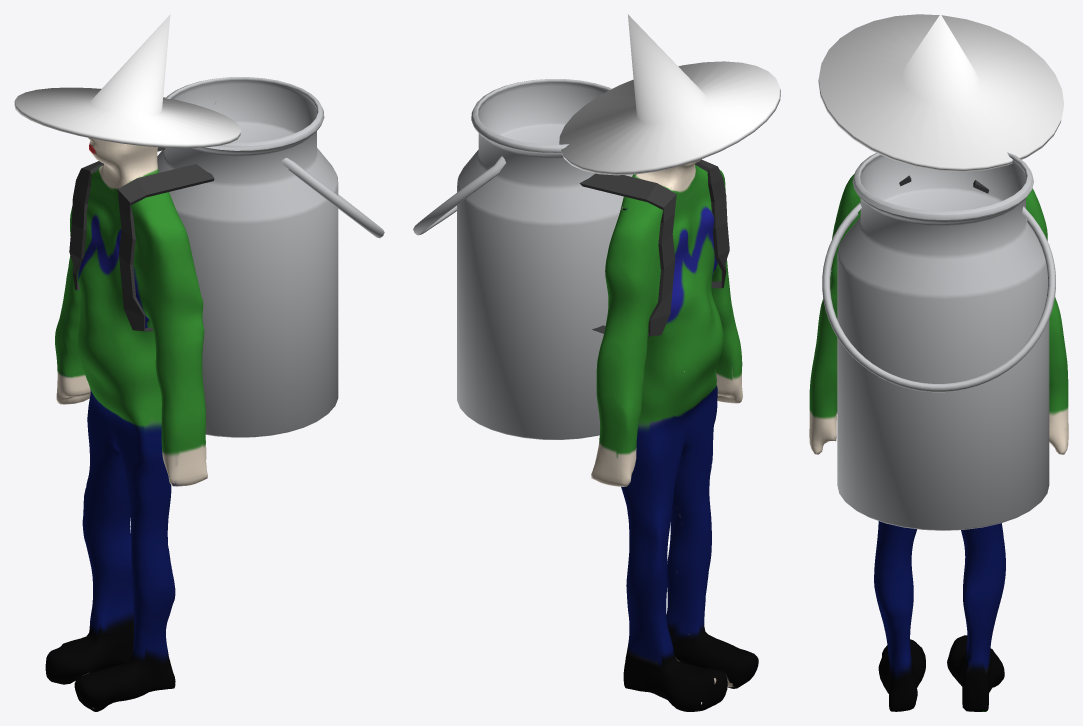
File: mlecznydruid.glb
3 views of the same model, side by side, from view 1: azimuth 30°, elevation 25°; view 2: azimuth 150°, elevation 25°; view 3: azimuth 270°, elevation 25° (orthographic). The views are drawn at different scales.
Visible parts, largest first — view 1: Plane; view 2: Plane; view 3: Plane.
Part boxes in pixels (<box>): Plane: <box>14,14,384,711</box>; Plane: <box>413,14,780,711</box>; Plane: <box>809,14,1068,711</box>.
Bounding box in the file's own units: 1.05 × 1.99 × 0.6517.
Materials: 5 (1 with a texture image).
